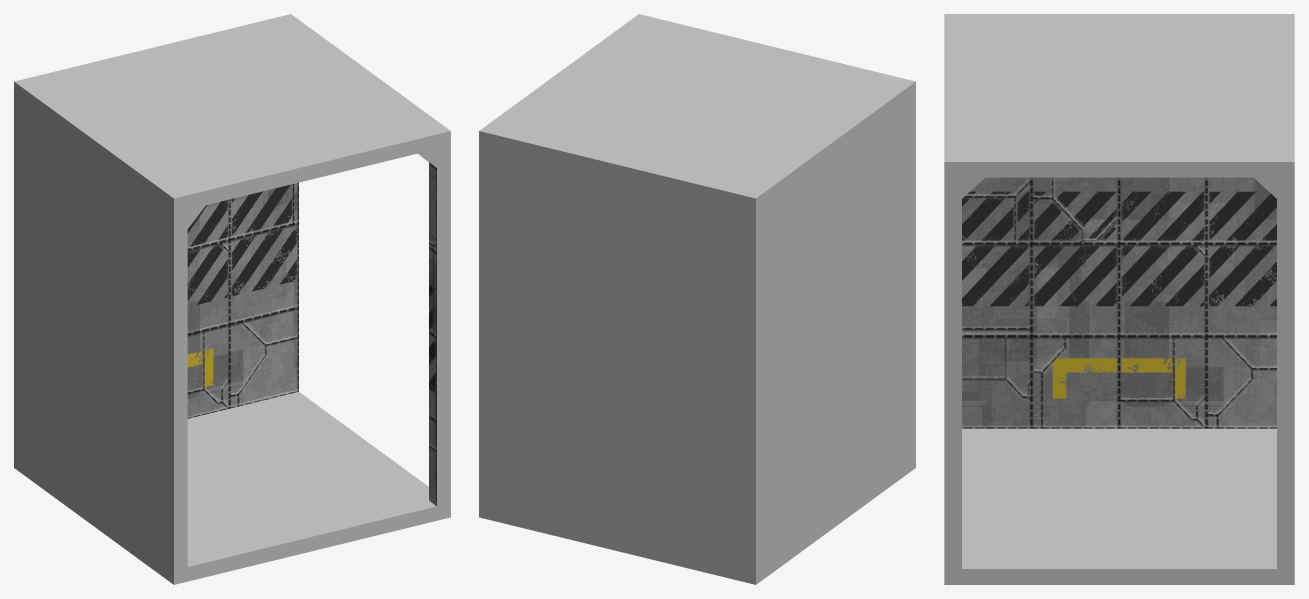
3 views of the same model, side by side, from view 1: azimuth 30°, elevation 25°; view 2: azimuth 150°, elevation 25°; view 3: azimuth 270°, elevation 25° (orthographic). The views are drawn at different scales.
Parts seen in each view (by area): view 1: Body.001; view 2: Body.001; view 3: Body.001.
Part boxes in pixels (x1,y1,x2,y2): Body.001: [14, 14, 450, 584]; Body.001: [479, 14, 915, 584]; Body.001: [944, 14, 1294, 584].
Size of the model in its own units: 1.5 by 2 by 1.5.
Materials: 3 (2 with a texture image).
